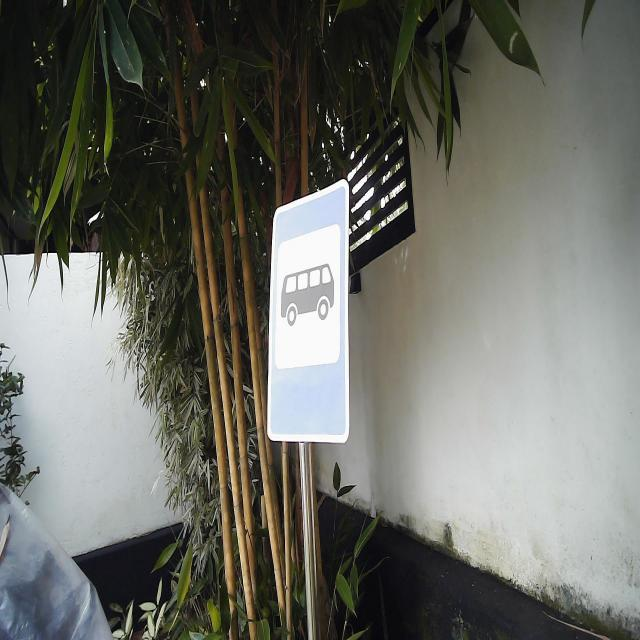bus_stop: (265, 178, 351, 447)
